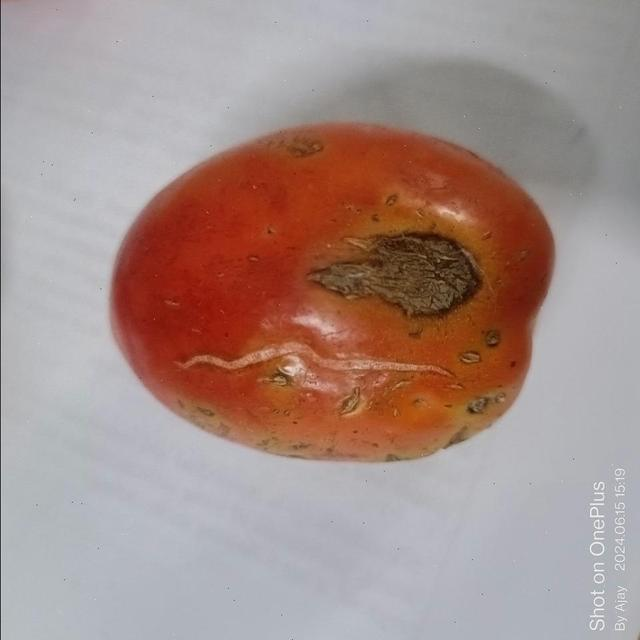Cracking Fruit: (200, 188, 303, 253)
